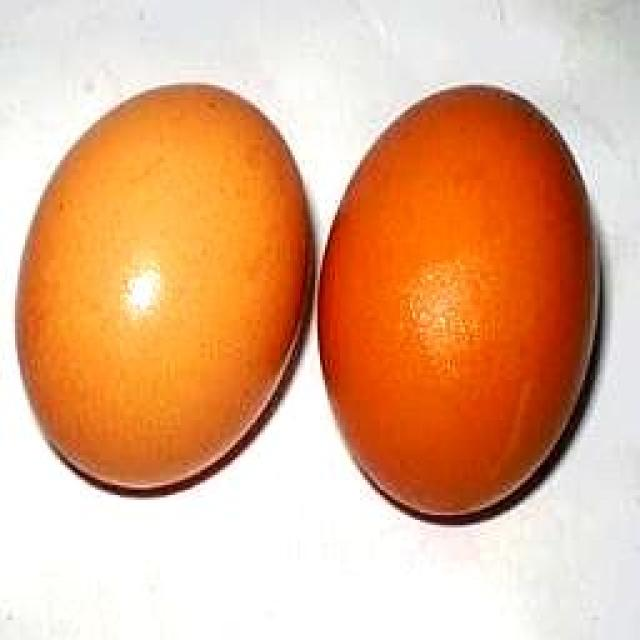Eggs: (316, 84, 604, 522), (13, 84, 312, 495)
